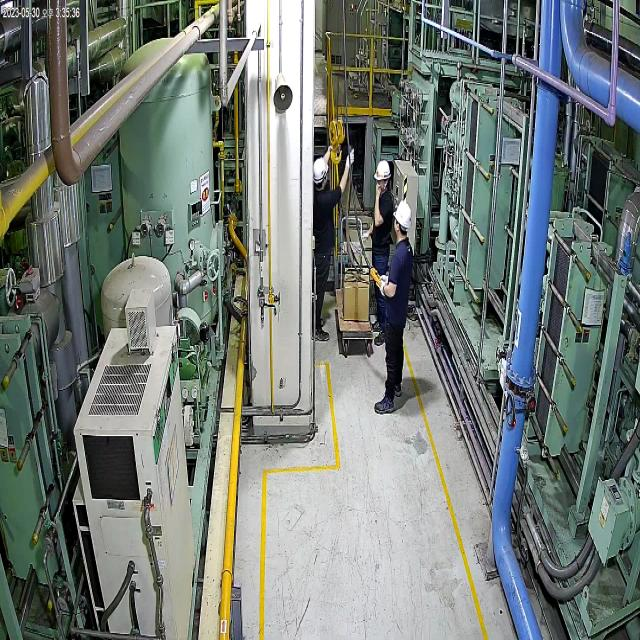worker: (368, 196, 419, 428), (312, 142, 357, 349), (370, 150, 389, 350)
